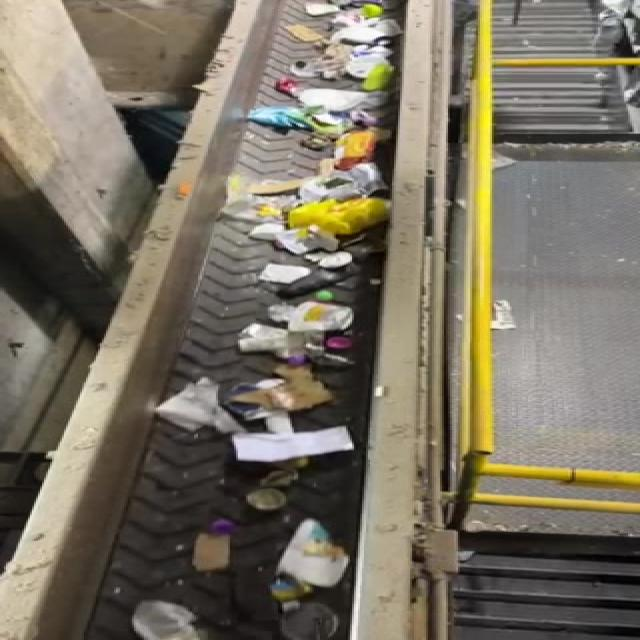paper: (260, 516, 361, 594), (220, 420, 376, 468), (138, 373, 232, 438), (176, 512, 238, 574)
pp: (227, 475, 316, 513)
